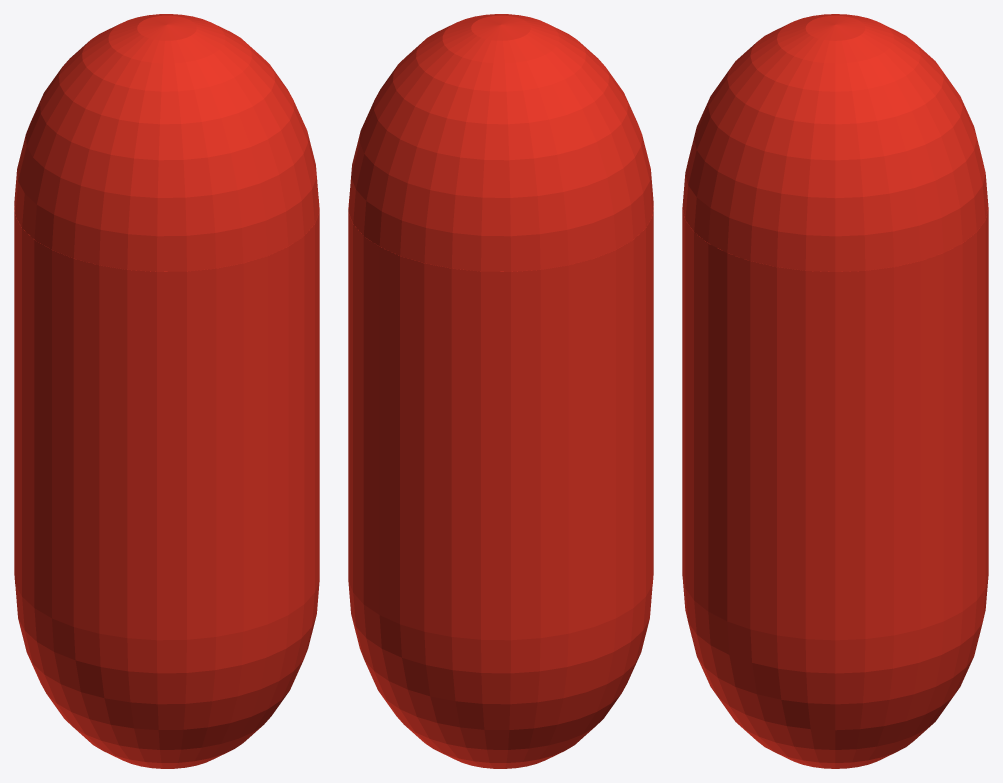
File: kielbasa_04.gltf
3 renders of one model, left to right at view 1: azimuth 30°, elevation 25°; view 2: azimuth 150°, elevation 25°; view 3: azimuth 270°, elevation 25°, orthographic.
Visible parts, largest first — view 1: kielbasa_04; view 2: kielbasa_04; view 3: kielbasa_04.
Boxes of the visible parts, left/top/right/bottom form: kielbasa_04: left=14, top=14, right=319, bottom=768; kielbasa_04: left=348, top=14, right=653, bottom=768; kielbasa_04: left=682, top=14, right=988, bottom=768.
Bounding box in the file's own units: 12.52 × 33.09 × 12.52.
